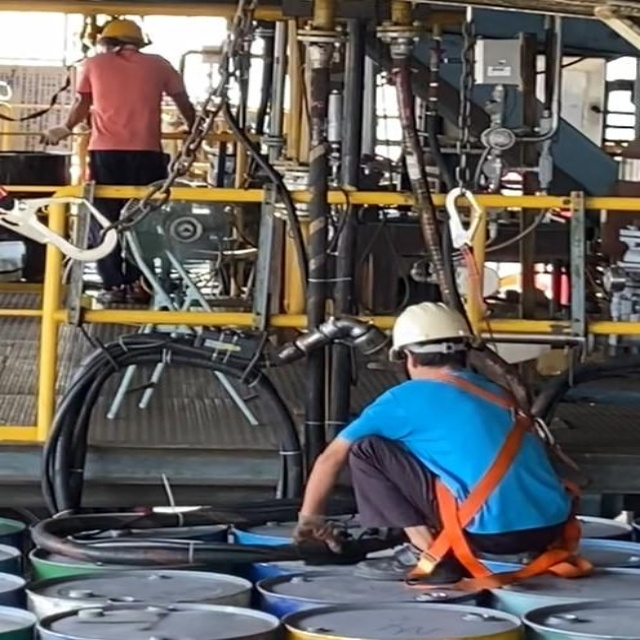Arnes_seguridad: (400, 370, 593, 587)
